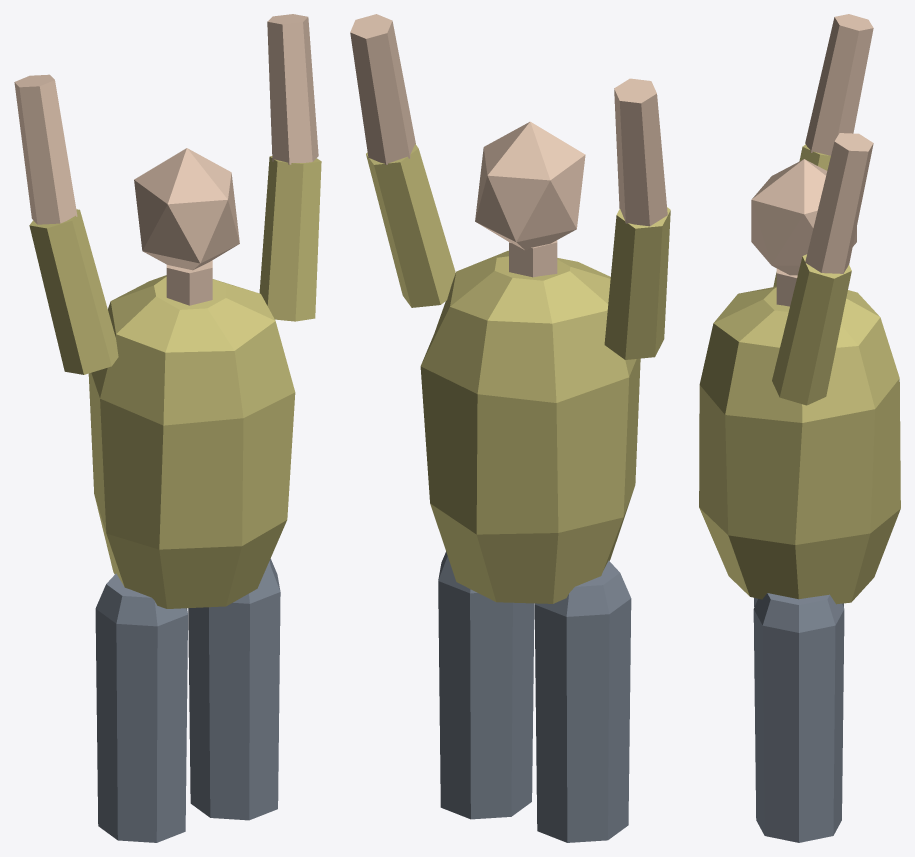
File: boyleap.glb
3 views of the same model, side by side, from view 1: azimuth 30°, elevation 25°; view 2: azimuth 150°, elevation 25°; view 3: azimuth 270°, elevation 25° (orthographic). The views are drawn at different scales.
Visible parts, largest first — view 1: BoyLeap_torso, BoyLeap_thigh, BoyLeap_thigh.001, BoyLeap_head, BoyLeap_uarm, BoyLeap_uarm.001, BoyLeap_larm.001, BoyLeap_larm, BoyLeap_neck; view 2: BoyLeap_torso, BoyLeap_thigh, BoyLeap_thigh.001, BoyLeap_head, BoyLeap_uarm.001, BoyLeap_uarm, BoyLeap_larm.001, BoyLeap_larm, BoyLeap_neck; view 3: BoyLeap_torso, BoyLeap_thigh.001, BoyLeap_uarm.001, BoyLeap_head, BoyLeap_larm.001, BoyLeap_larm, BoyLeap_neck, BoyLeap_uarm.
Part boxes in pixels (box(x1,y1,x2,y2)): BoyLeap_torso: box(88, 275, 295, 608); BoyLeap_thigh: box(95, 573, 187, 842); BoyLeap_thigh.001: box(188, 558, 280, 820); BoyLeap_head: box(134, 148, 239, 270); BoyLeap_uarm: box(29, 209, 118, 374); BoyLeap_uarm.001: box(259, 156, 321, 321); BoyLeap_larm.001: box(267, 14, 318, 164); BoyLeap_larm: box(14, 74, 77, 224); BoyLeap_neck: box(166, 260, 212, 305); BoyLeap_torso: box(420, 250, 640, 603); BoyLeap_thigh: box(534, 560, 631, 842); BoyLeap_thigh.001: box(438, 551, 534, 819); BoyLeap_head: box(475, 121, 585, 250); BoyLeap_uarm.001: box(366, 144, 455, 307); BoyLeap_uarm: box(604, 207, 670, 359); BoyLeap_larm.001: box(350, 14, 415, 164); BoyLeap_larm: box(614, 78, 667, 226); BoyLeap_neck: box(509, 240, 557, 277); BoyLeap_torso: box(699, 286, 900, 604); BoyLeap_thigh.001: box(753, 593, 844, 842); BoyLeap_uarm.001: box(772, 254, 851, 405); BoyLeap_head: box(751, 159, 856, 275); BoyLeap_larm.001: box(805, 133, 873, 273); BoyLeap_larm: box(805, 14, 873, 155); BoyLeap_neck: box(776, 268, 797, 306); BoyLeap_uarm: box(773, 144, 830, 286).
Bounding box in the file's own units: 0.5315 × 1.31 × 0.3314.
